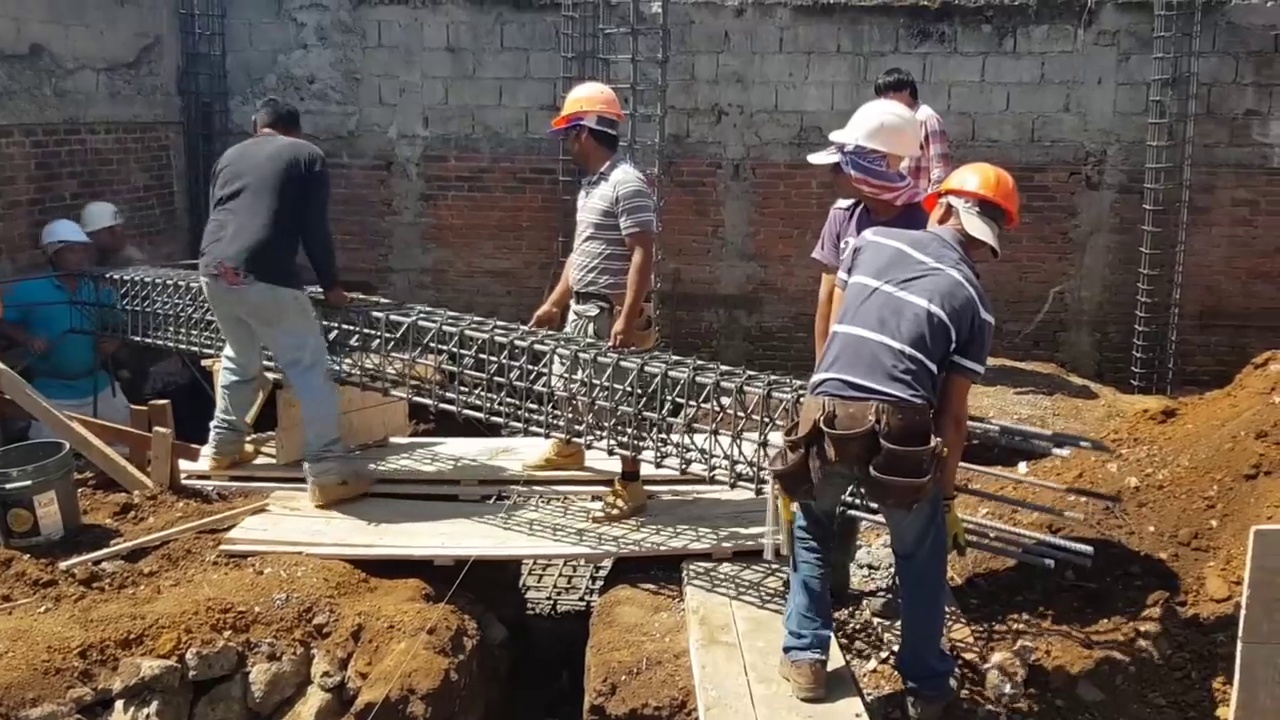helmet: (824, 97, 924, 163), (926, 160, 1021, 229), (548, 83, 625, 127), (39, 220, 90, 251), (80, 202, 124, 234)
helmet-off: (873, 67, 922, 113), (250, 101, 304, 140)
helmet-on: (824, 101, 926, 210), (925, 160, 1021, 267), (547, 82, 625, 175), (38, 219, 90, 285), (80, 201, 128, 250)
person: (781, 159, 1021, 718), (200, 101, 356, 496), (527, 77, 659, 524), (813, 99, 926, 372), (1, 219, 125, 441), (875, 64, 951, 194), (80, 199, 145, 266)
